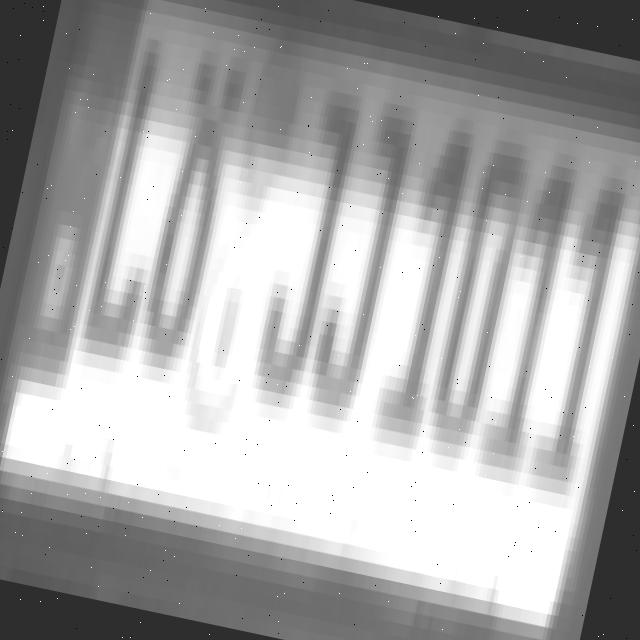Autre: (7, 0, 640, 551)
